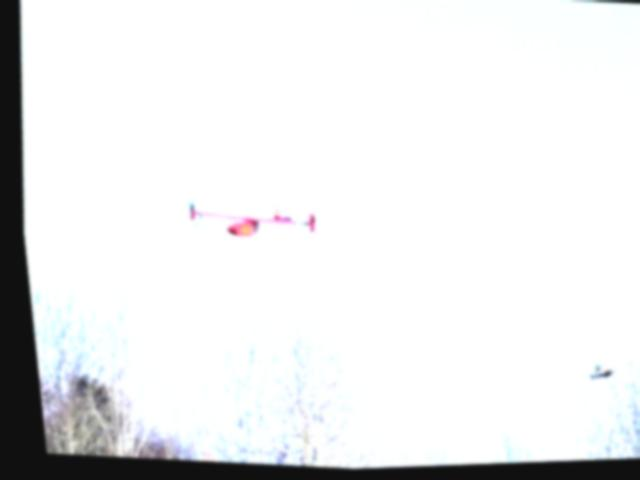uav: (165, 181, 322, 261)
